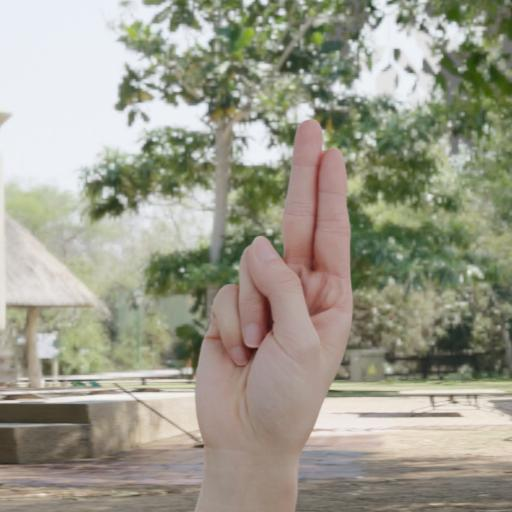U: (178, 98, 371, 462)
